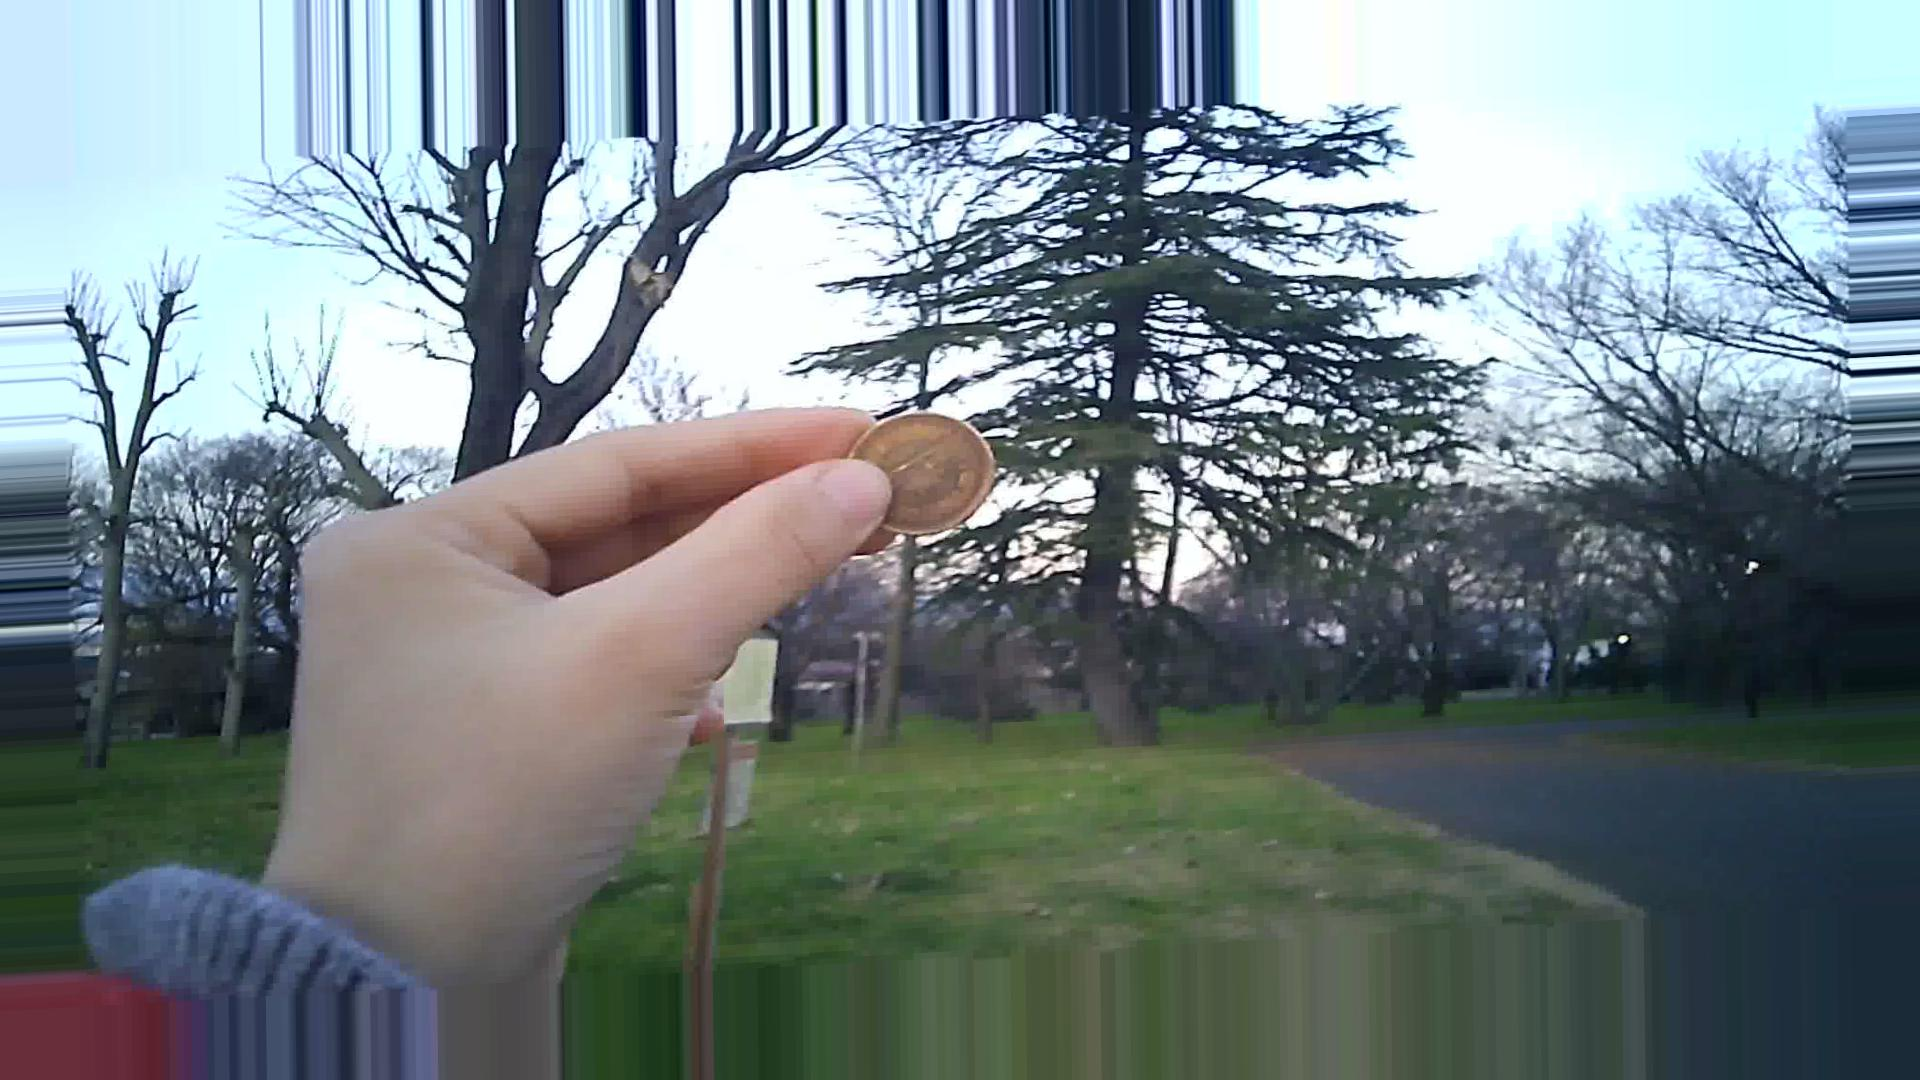10 Yen: (837, 401, 997, 553)
